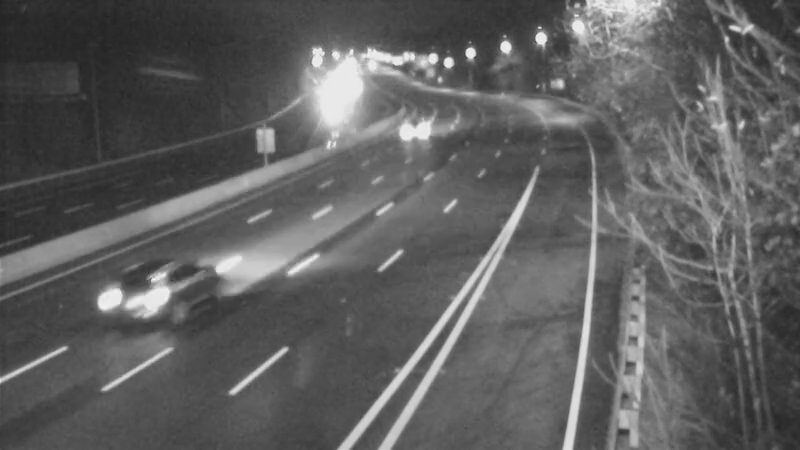vehicle: (106, 255, 186, 335), (393, 104, 443, 154), (309, 83, 359, 133)
